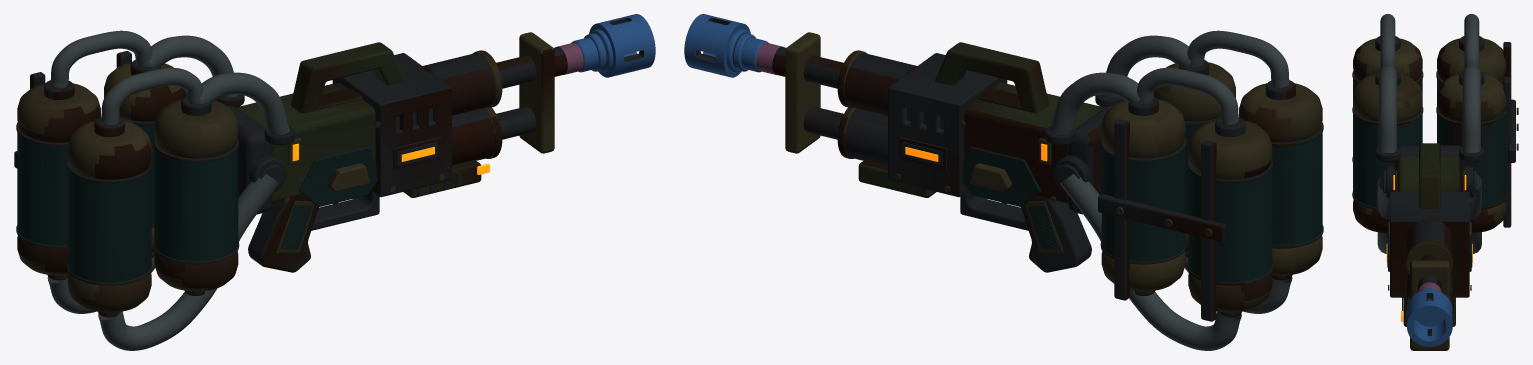
The model's file is flame.glb.
The picture shows the model from 3 angles, left to right: view 1: azimuth 30°, elevation 25°; view 2: azimuth 150°, elevation 25°; view 3: azimuth 270°, elevation 25°; orthographic projection. The views are drawn at different scales.
Visible parts, largest first — view 1: Body; view 2: Body; view 3: Body.
Boxes of the visible parts, box(x1,y1,x2,y2) form: Body: box(14, 14, 655, 350); Body: box(684, 14, 1323, 350); Body: box(1352, 14, 1518, 350).
Bounding box in the file's own units: 2.09 × 0.9219 × 0.6106.
9 materials, 4 textured.
